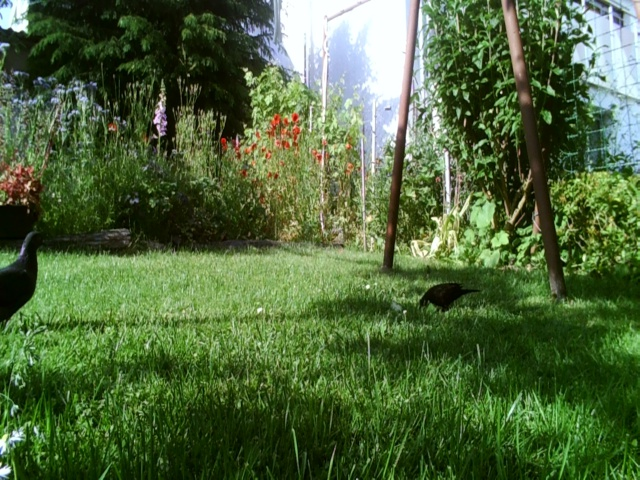Pigeon: (1, 227, 54, 330)
